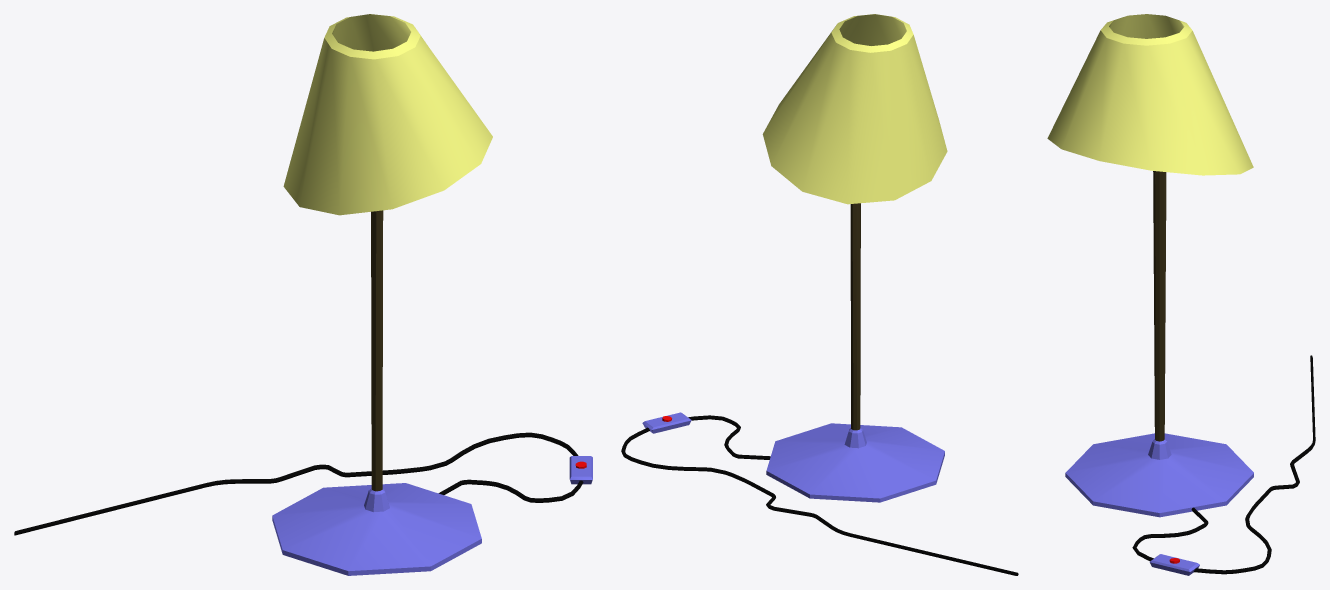
Rendered from LampHigh.FBX.
3 renders of one model, left to right at view 1: azimuth 30°, elevation 25°; view 2: azimuth 150°, elevation 25°; view 3: azimuth 270°, elevation 25°, orthographic. The views are drawn at different scales.
Visible parts, largest first — view 1: LampHigh; view 2: LampHigh; view 3: LampHigh.
Part boxes in pixels (x1,y1,x2,y2): LampHigh: (14, 14, 592, 575); LampHigh: (621, 14, 1018, 575); LampHigh: (1047, 14, 1315, 575).
Bounding box in the file's own units: 6.32 × 6.04 × 3.28.
